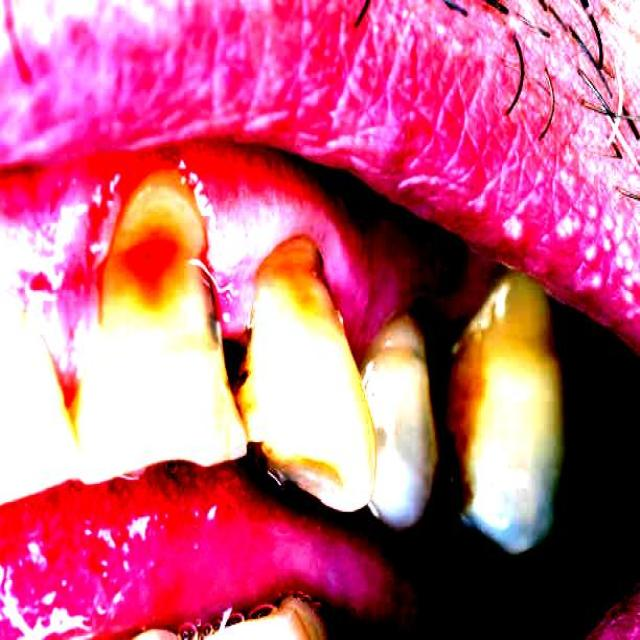caries: (405, 311, 488, 510)
